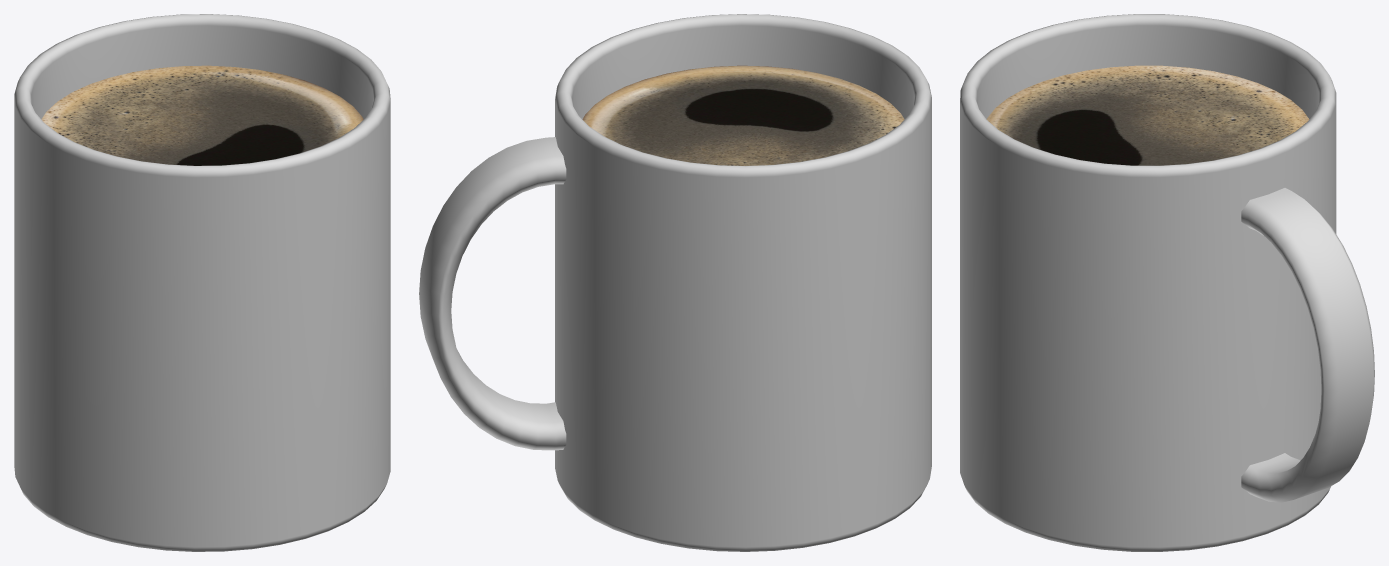
File: Coffeemug.glb
3 renders of one model, left to right at view 1: azimuth 30°, elevation 25°; view 2: azimuth 150°, elevation 25°; view 3: azimuth 270°, elevation 25°, orthographic.
Parts seen in each view (by area): view 1: Mug1_Mug_0, Mug1_Coffee_0; view 2: Mug1_Mug_0, Mug1_Coffee_0; view 3: Mug1_Mug_0, Mug1_Coffee_0.
Part boxes in pixels (x1,y1,x2,y2): Mug1_Mug_0: (14, 14, 390, 551); Mug1_Coffee_0: (41, 65, 363, 165); Mug1_Mug_0: (419, 14, 931, 551); Mug1_Coffee_0: (582, 65, 904, 165); Mug1_Mug_0: (960, 14, 1374, 551); Mug1_Coffee_0: (986, 65, 1309, 165).
Bounding box in the file's own units: 1.17 × 1.1 × 1.07.
Materials: 2 (1 with a texture image).
